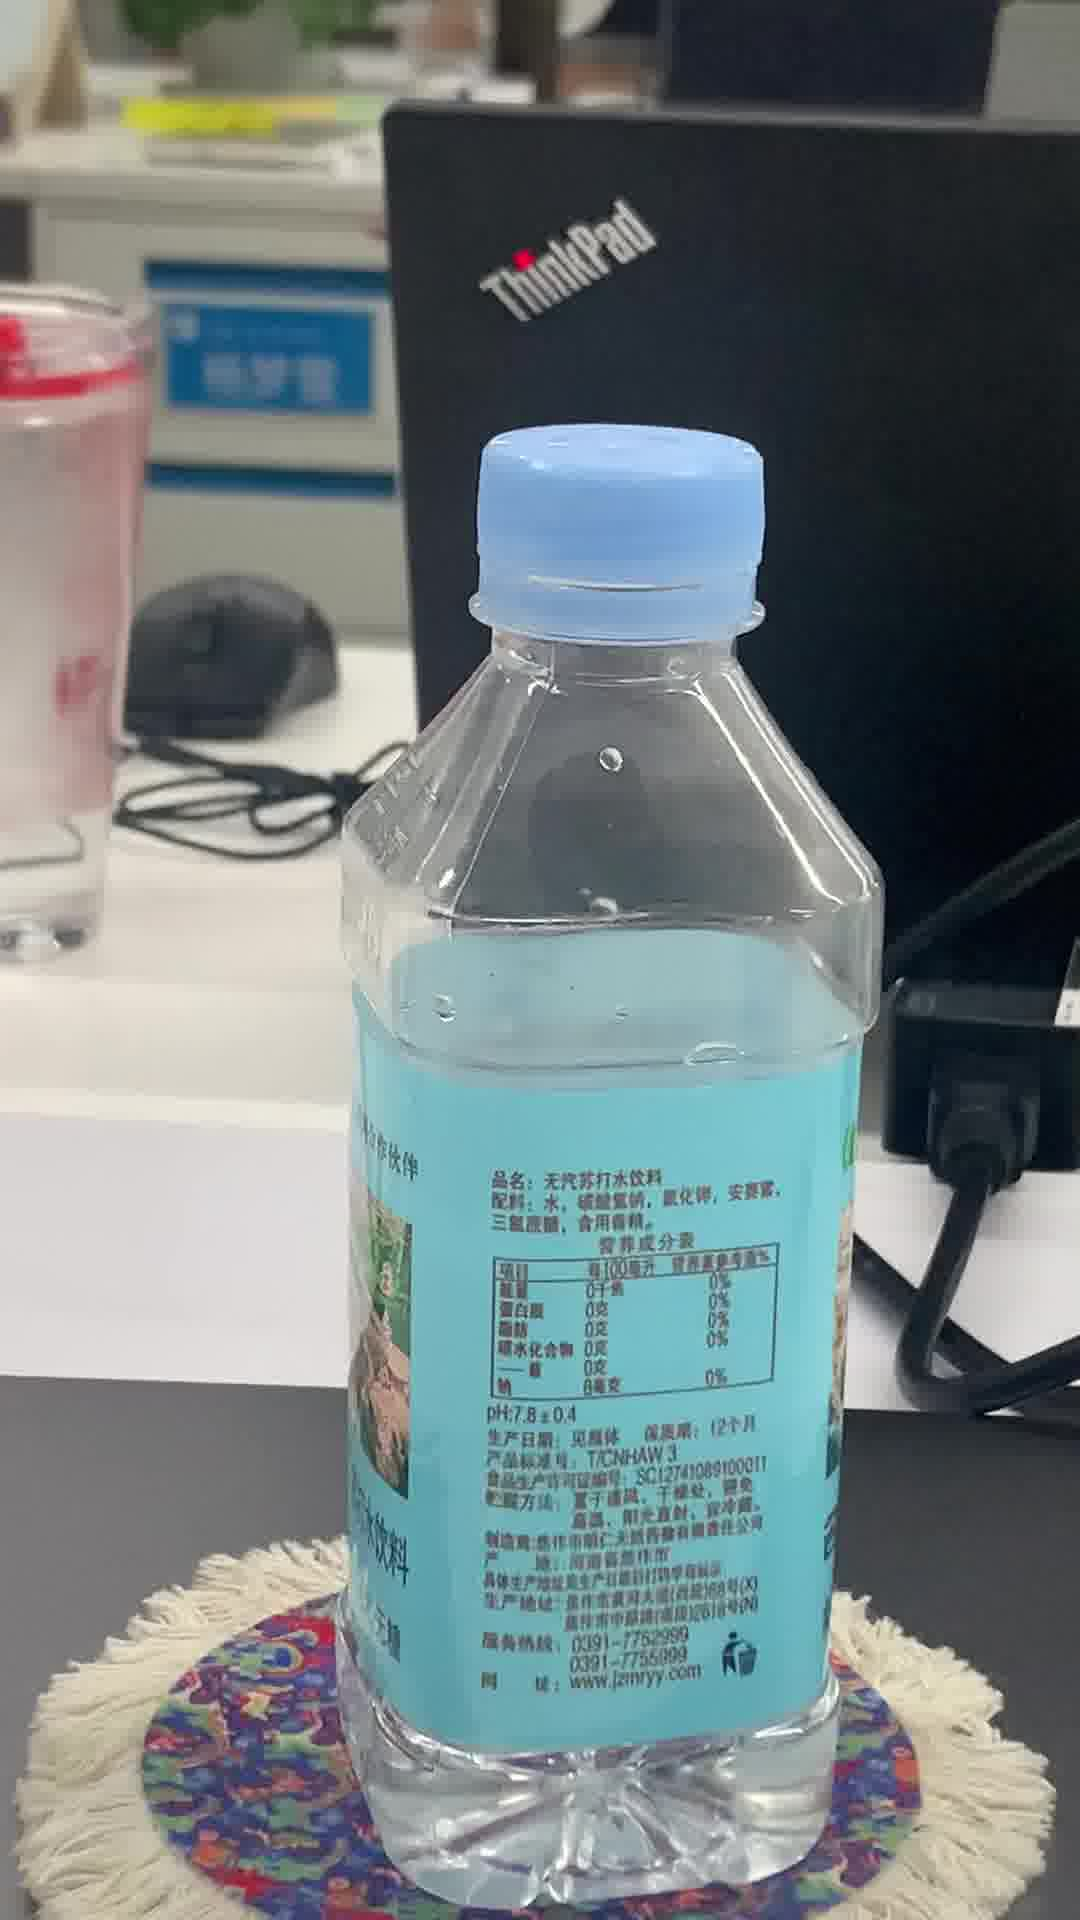水瓶: (326, 415, 853, 1898)
